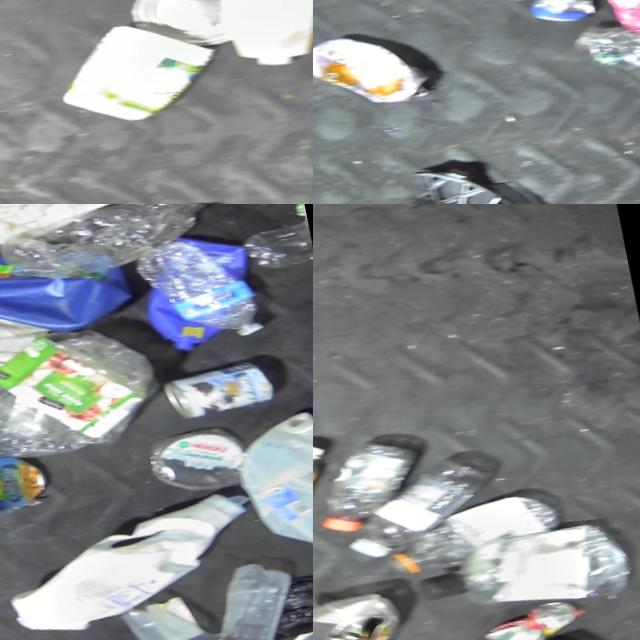can: (156, 336, 281, 419), (473, 578, 583, 640), (122, 0, 235, 53), (0, 436, 57, 520), (517, 0, 612, 26), (278, 594, 313, 640)
milk_jug: (224, 381, 313, 546)
non_white_jug: (0, 205, 140, 357)
plastic_bottle: (407, 488, 636, 622), (0, 297, 169, 474), (329, 431, 503, 565), (375, 464, 569, 581), (0, 204, 222, 294), (129, 210, 269, 346), (313, 417, 432, 535), (574, 0, 640, 132), (313, 421, 341, 550)
